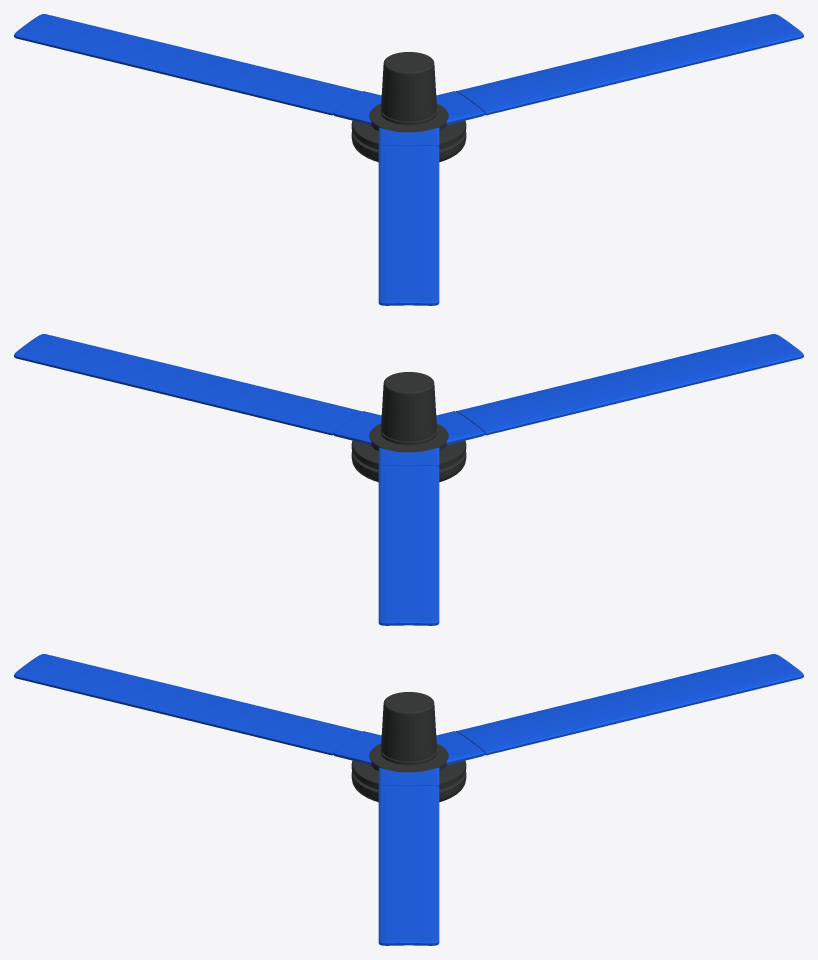
File: venti2.obj
3 renders of one model, top to bottom at view 1: azimuth 30°, elevation 25°; view 2: azimuth 150°, elevation 25°; view 3: azimuth 270°, elevation 25°, orthographic.
Visible parts, largest first — view 1: Simple_Ceiling_Fanwingswing2wing3, Simple_Ceiling_Fanwingswing_Instance_1wing, Simple_Ceiling_Fanwingswing_Instancewing1, Simple_Ceiling_Fanbody; view 2: Simple_Ceiling_Fanwingswing_Instancewing1, Simple_Ceiling_Fanwingswing2wing3, Simple_Ceiling_Fanwingswing_Instance_1wing, Simple_Ceiling_Fanbody; view 3: Simple_Ceiling_Fanwingswing_Instance_1wing, Simple_Ceiling_Fanwingswing_Instancewing1, Simple_Ceiling_Fanwingswing2wing3, Simple_Ceiling_Fanbody.
Boxes of the visible parts, x1,y1,x2,y2 form: Simple_Ceiling_Fanwingswing2wing3: [436, 14, 803, 124]; Simple_Ceiling_Fanwingswing_Instance_1wing: [14, 14, 381, 124]; Simple_Ceiling_Fanwingswing_Instancewing1: [378, 127, 439, 305]; Simple_Ceiling_Fanbody: [351, 52, 466, 162]; Simple_Ceiling_Fanwingswing_Instancewing1: [436, 334, 803, 444]; Simple_Ceiling_Fanwingswing2wing3: [14, 334, 381, 444]; Simple_Ceiling_Fanwingswing_Instance_1wing: [378, 447, 439, 625]; Simple_Ceiling_Fanbody: [351, 372, 466, 482]; Simple_Ceiling_Fanwingswing_Instance_1wing: [436, 654, 803, 764]; Simple_Ceiling_Fanwingswing_Instancewing1: [14, 654, 381, 764]; Simple_Ceiling_Fanwingswing2wing3: [378, 767, 439, 945]; Simple_Ceiling_Fanbody: [351, 692, 466, 802].
Bounding box in the file's own units: 0.8578 × 0.1138 × 0.9889.
Materials: 2 (2 with a texture image).
